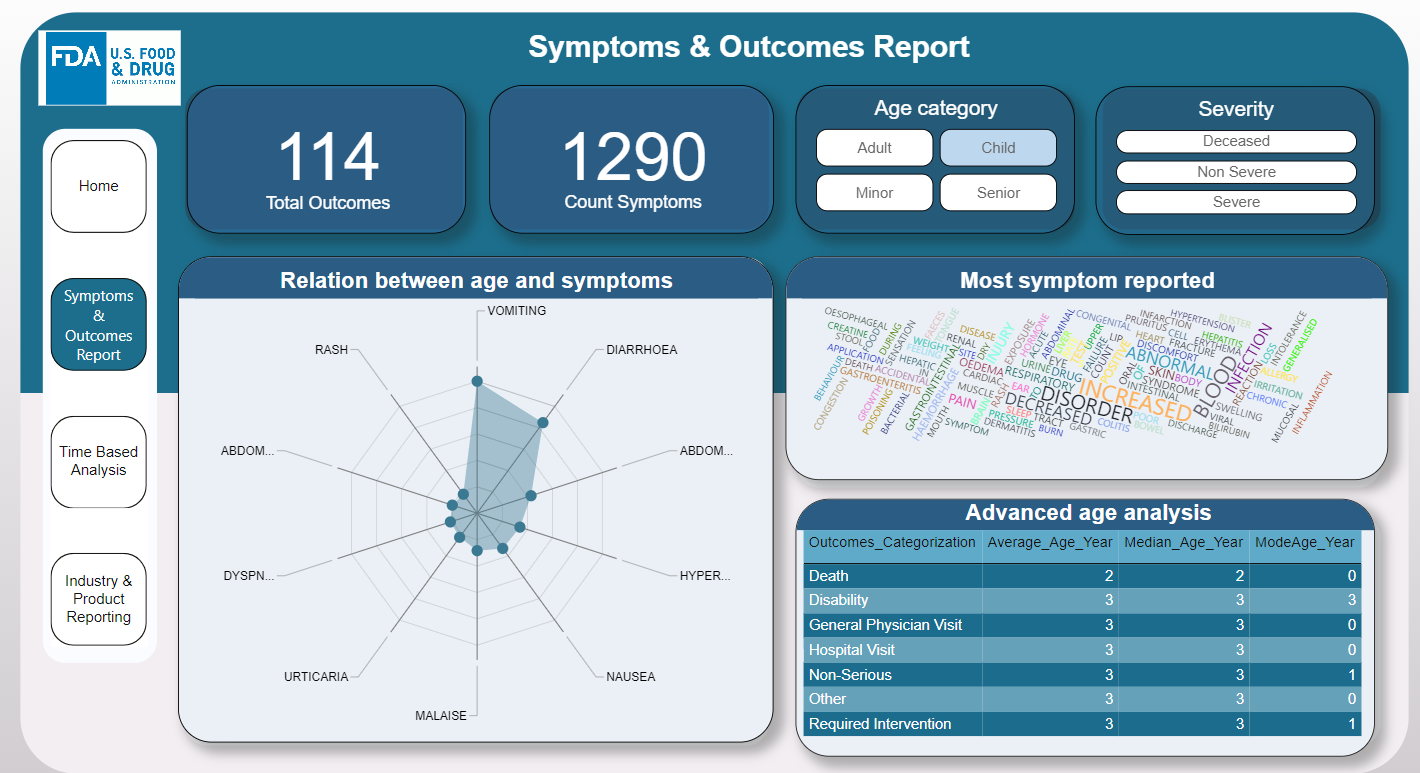

The page's visual inventory and layout, read from the dashboard file:
{"tool":"powerbi","page":{"name":"Symptoms & Outcomes Report","canvas":[1280,720],"ordinal":1},"visuals":[{"type":"image","box":[31.6,31.6,137.2,76.8],"z":0},{"type":"RadarChart1446119667547","title":"Relation between age and symptoms","fields":{"Category":["Symptoms_table.Symptoms"],"Y":["Sum(Symptoms_table.Count)"]},"box":[160.5,237.7,532,434.3],"z":1000},{"type":"tableEx","title":"Advanced age analysis","fields":{"Values":["AgeCount.Outcomes_gen","AgeCount.Average_age","AgeCount.Age_in_Years","AgeCount.Mode_age"]},"box":[712.8,454.7,517.4,230.2],"z":2000},{"type":"WordCloud1447959067750","title":"Most symptom reported","fields":{"Category":["Symptoms_table.Symptoms"]},"box":[703.5,237.8,538.2,199.9],"z":3000},{"type":"card","fields":{"Values":["Count(Main_table.Outcomes)"]},"box":[168.9,84.5,249.7,132.7],"z":4000},{"type":"card","fields":{"Values":["Symptoms_table.Count Symptoms"]},"box":[438.4,84.9,254.7,132.6],"z":5000},{"type":"ChicletSlicer1448559807354","title":"Age category","fields":{"Category":["Main_table.Age_category"]},"box":[712.2,85.1,249.7,133.1],"z":6000},{"type":"ChicletSlicer1448559807354","title":"Severity","fields":{"Category":["Main_table.Severity"]},"box":[980.8,85.7,249.7,132.7],"z":7000},{"type":"textbox","box":[168.8,31.6,1004.5,52.1],"z":8000},{"type":"pageNavigator","box":[47.1,133.9,86.9,452.4],"z":9000}]}

Visuals, with their boxes on the page's 1280x720 design canvas (x1, y1, x2, y2). These are canvas units, not pixel positions in the 1420x773 screenshot, which may show the page scaled, cropped or inside an application window:
image: 32/32/169/108
"Relation between age and symptoms" RadarChart1446119667547: 160/238/692/672
"Advanced age analysis" tableEx: 713/455/1230/685
"Most symptom reported" WordCloud1447959067750: 704/238/1242/438
card - Count(Main_table.Outcomes): 169/84/419/217
card - Symptoms_table.Count Symptoms: 438/85/693/218
"Age category" ChicletSlicer1448559807354: 712/85/962/218
"Severity" ChicletSlicer1448559807354: 981/86/1230/218
textbox: 169/32/1173/84
pageNavigator: 47/134/134/586
